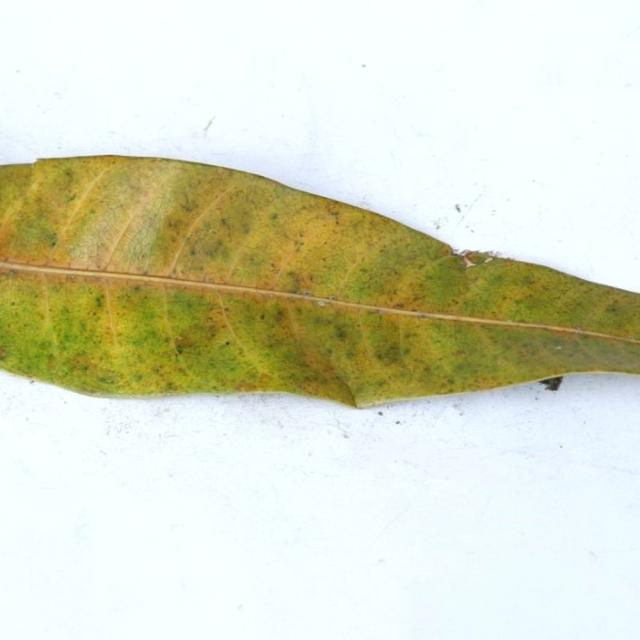Mango: (0, 156, 639, 406)
Powdery_Mildew: (390, 251, 478, 309), (111, 200, 169, 267), (367, 324, 410, 369), (17, 220, 53, 252), (186, 269, 237, 288), (327, 320, 357, 348), (13, 249, 55, 268), (37, 224, 65, 252), (78, 236, 108, 261), (90, 291, 112, 321), (265, 299, 292, 322), (173, 332, 202, 353), (264, 205, 290, 225), (512, 271, 539, 290), (60, 157, 79, 183), (332, 324, 347, 340), (181, 200, 197, 213), (111, 201, 127, 213), (328, 208, 340, 220), (293, 240, 305, 251), (269, 264, 282, 274), (391, 302, 406, 310), (575, 328, 587, 338), (0, 344, 8, 359), (175, 344, 184, 354), (7, 268, 17, 277), (416, 313, 428, 319), (372, 308, 383, 314), (209, 228, 217, 234), (225, 341, 230, 346), (11, 302, 15, 306)
